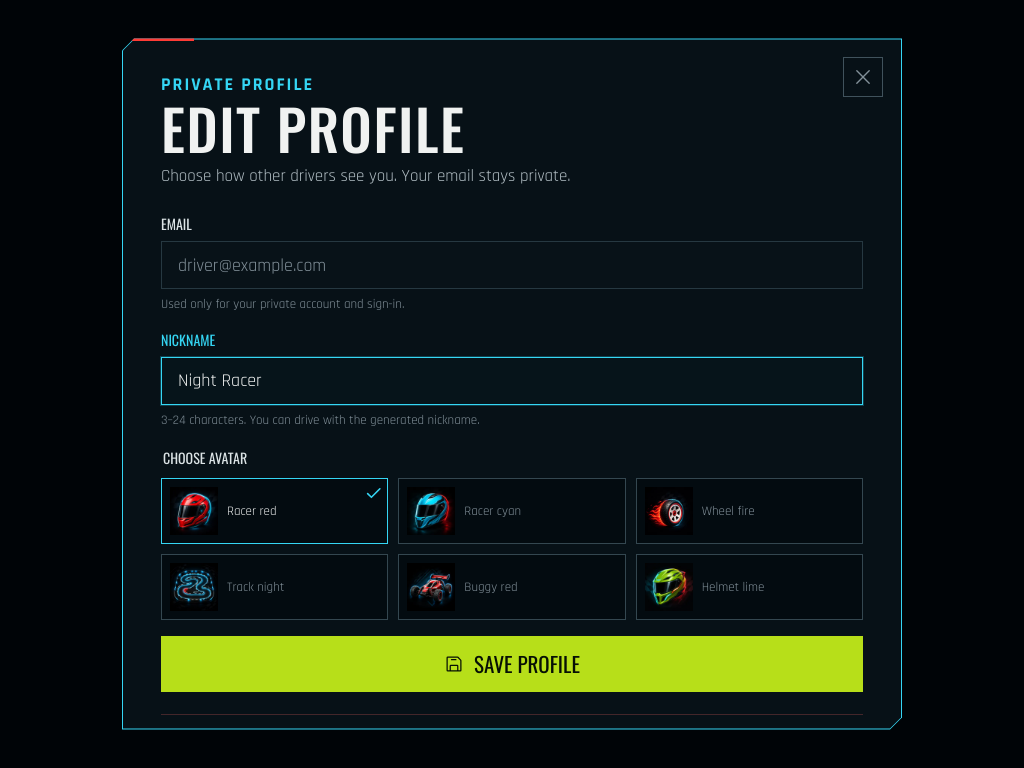
Test case: ProfileDialog › shows an inline conflict without disclosing another account
This screenshot has width=1024, height=768.
Expected: the field labelled "NICKNAME" is shown, [176,358,848,404]
Click the button "SAVE PROFILE" at (512, 664), box [161,636,863,692]
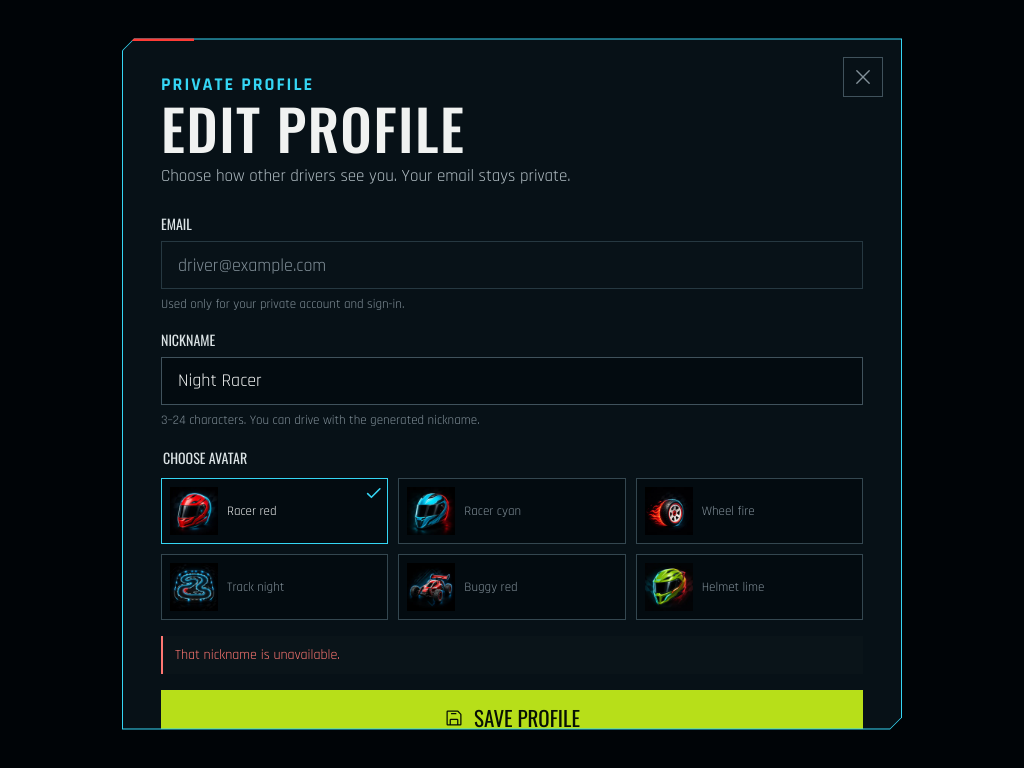
Expected: the message reads "That nickname is unavailable.", [175,646,340,664]
